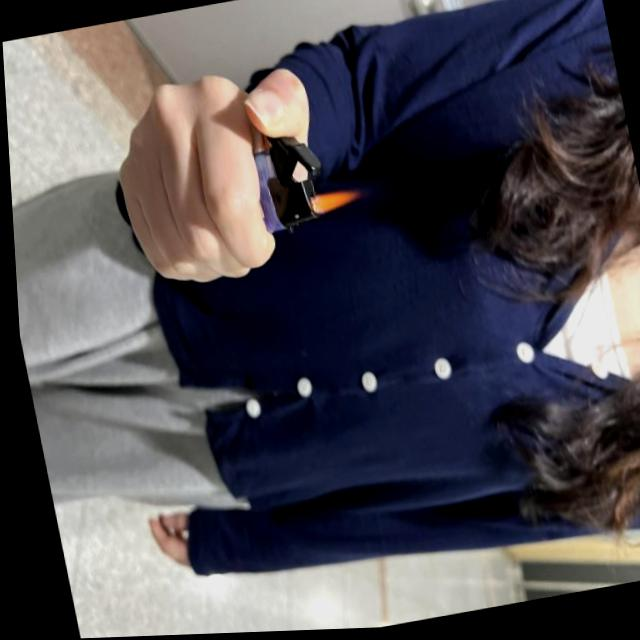helmet: (303, 187, 365, 221)
